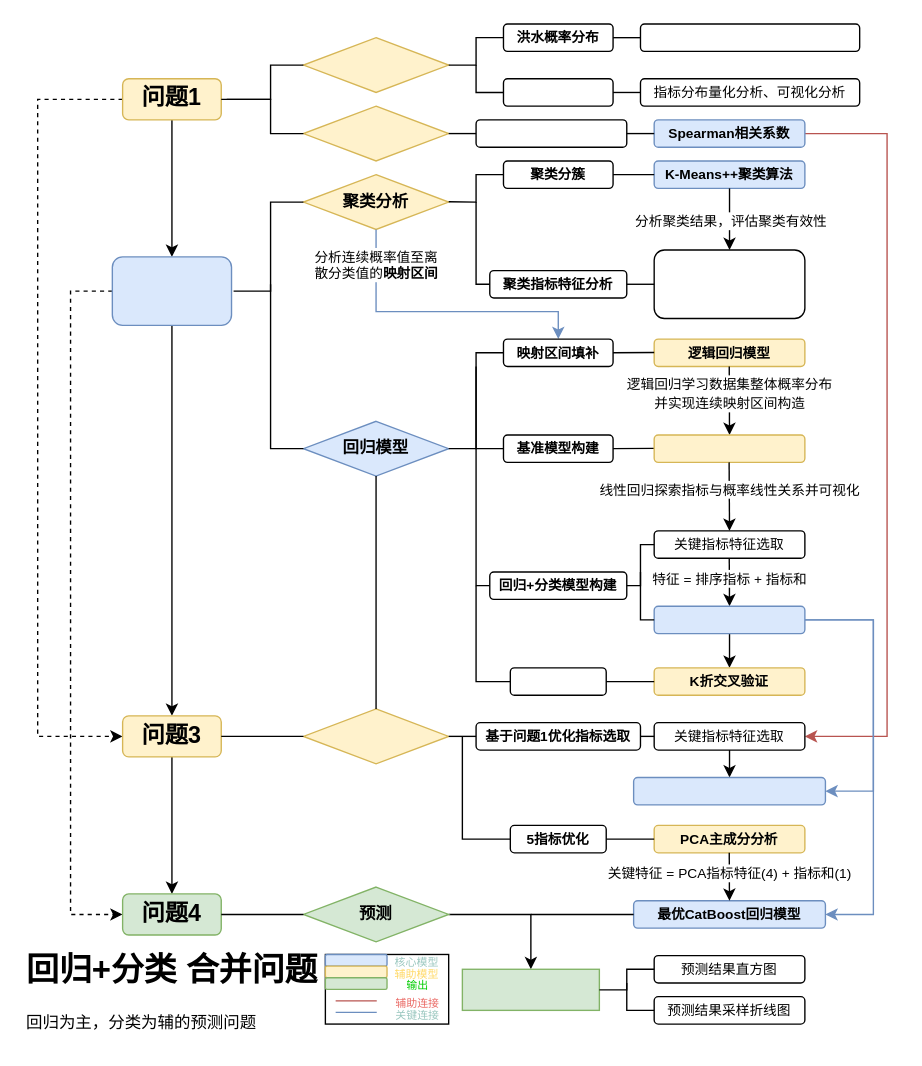
Some shapes in this 922 by 1066 pixel diagram are drawn without their labels. The shapes that lost their labels are listed below. From the top down, each one's centre as x and y in pixels, then its label:
pixel 749 37: 概率分布统计分析、可视化分析
pixel 375 64: 基本分析
pixel 557 91: 指标特征分布
pixel 375 133: 相关性分析
pixel 551 133: 指标与洪水概率相关性
pixel 171 290: 问题2 （核心）
pixel 729 284: 基于分簇分表，统计量化、可视化分析不同聚类簇指标特征
pixel 729 448: 线性回归模型
pixel 729 619: CatBoost回归模型
pixel 557 681: 灵敏度检验
pixel 375 736: 模型优化
pixel 728 790: 优化CatBoost回归模型
pixel 530 989: 预测结果
